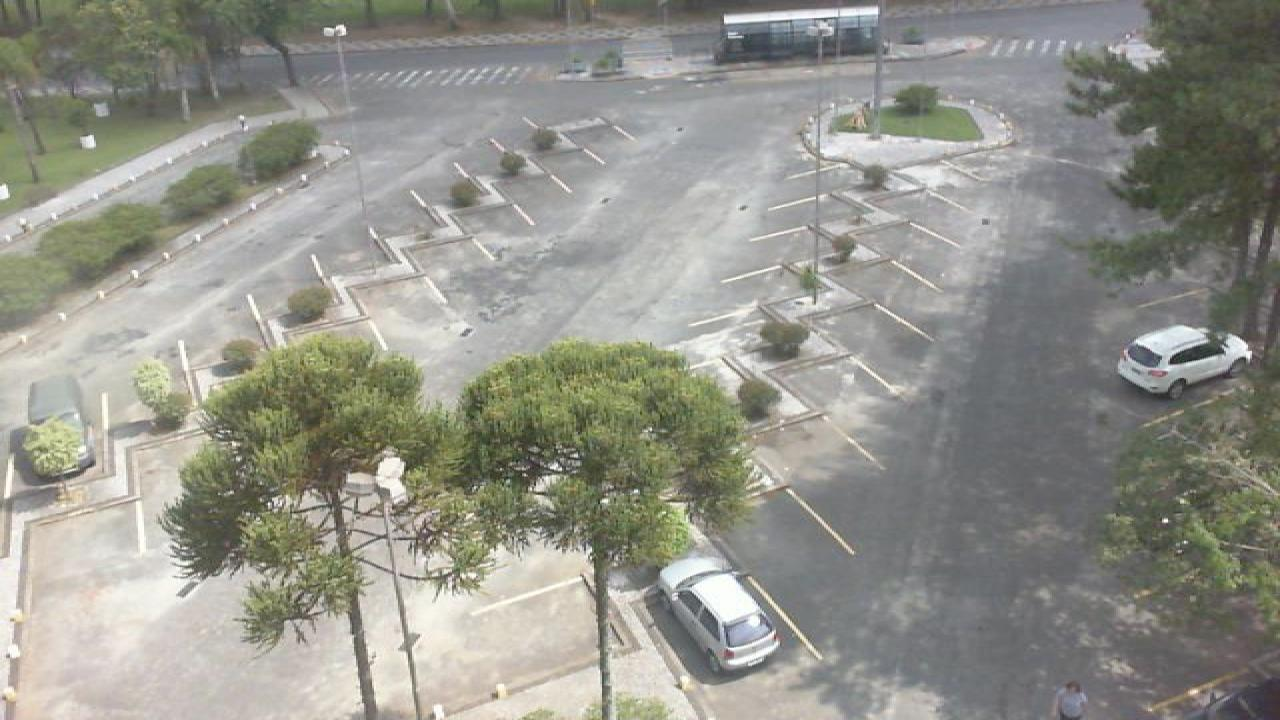Car: (654, 556, 782, 677), (1116, 324, 1254, 399), (16, 376, 96, 481)
